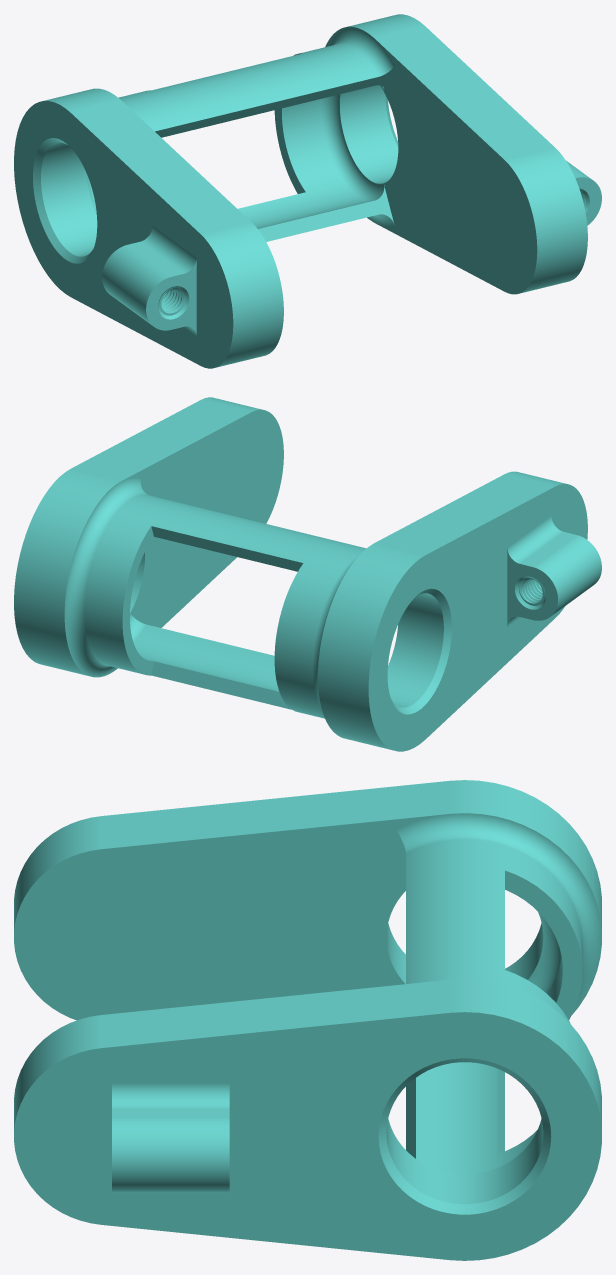
The model's file is Garfo de Articulação.glb.
3 views of the same model, one above another, from view 1: azimuth 30°, elevation 25°; view 2: azimuth 150°, elevation 25°; view 3: azimuth 270°, elevation 25° (orthographic). The views are drawn at different scales.
Visible parts, largest first — view 1: Part 1; view 2: Part 1; view 3: Part 1.
Boxes of the visible parts, box(x1,y1,x2,y2) form: Part 1: box(14, 14, 601, 368); Part 1: box(14, 397, 601, 751); Part 1: box(14, 780, 601, 1260).
Size of the model in its own units: 0.18 by 0.07 by 0.1499.
